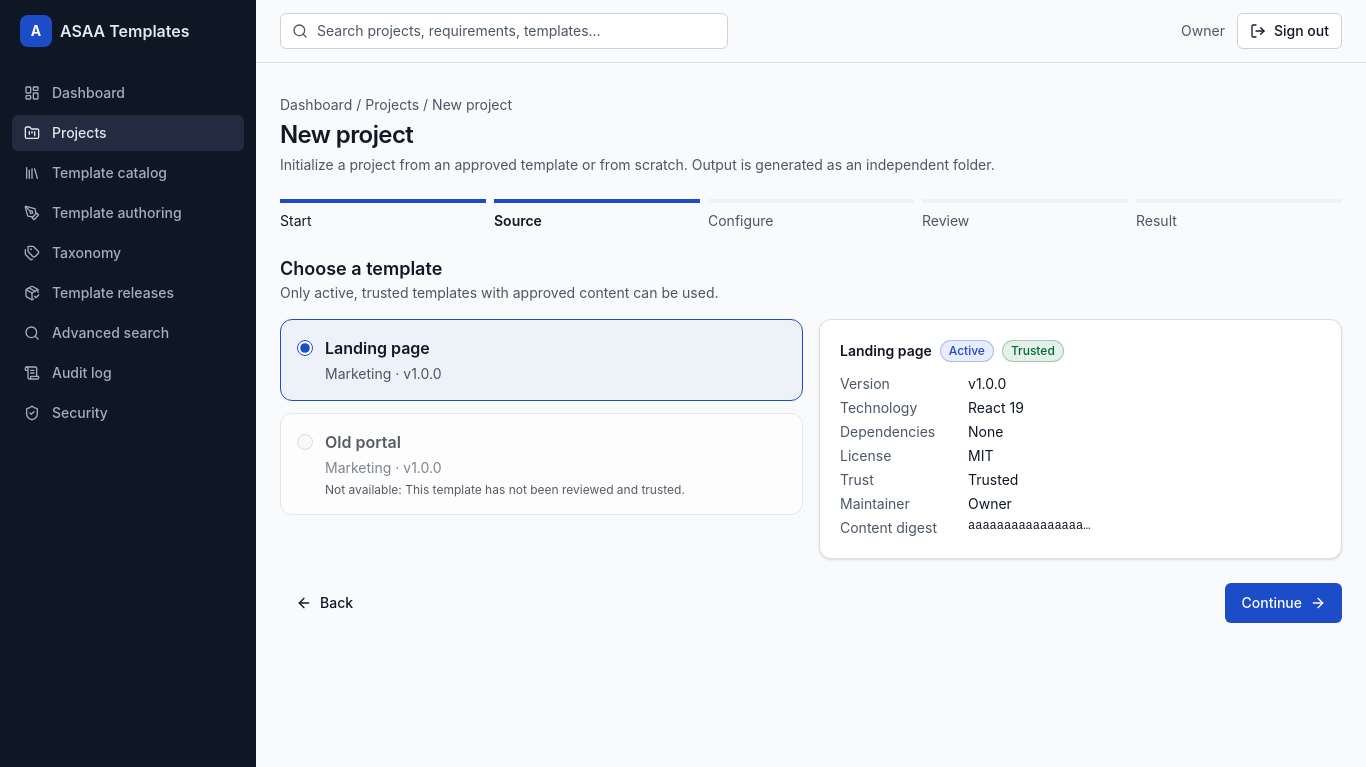
new project wizard › returns to configuration with server field errors and blocks generation on conflicts
Click the button "Continue": (1284, 603) [1226,583,1342,623]
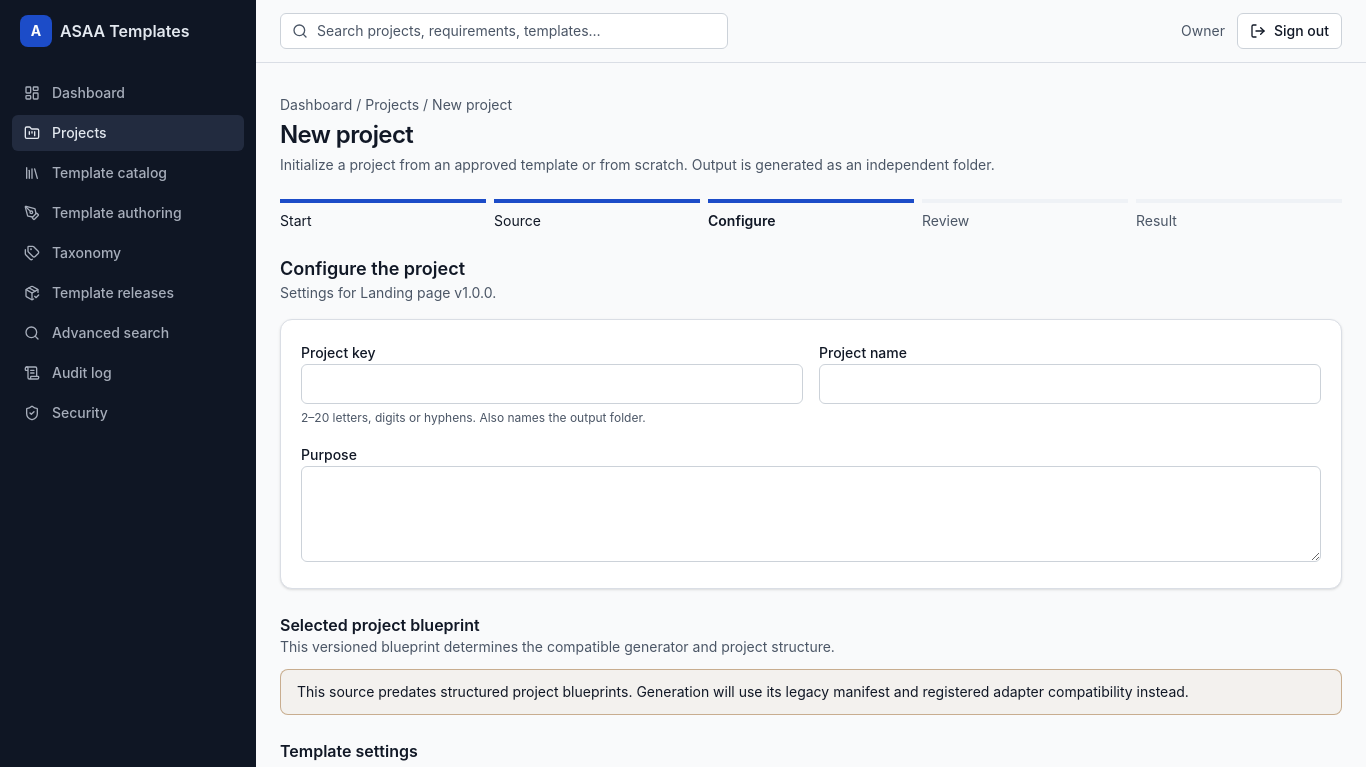
In the field labelled "Project key": (552, 384) [301,364,803,404], type "SITE"
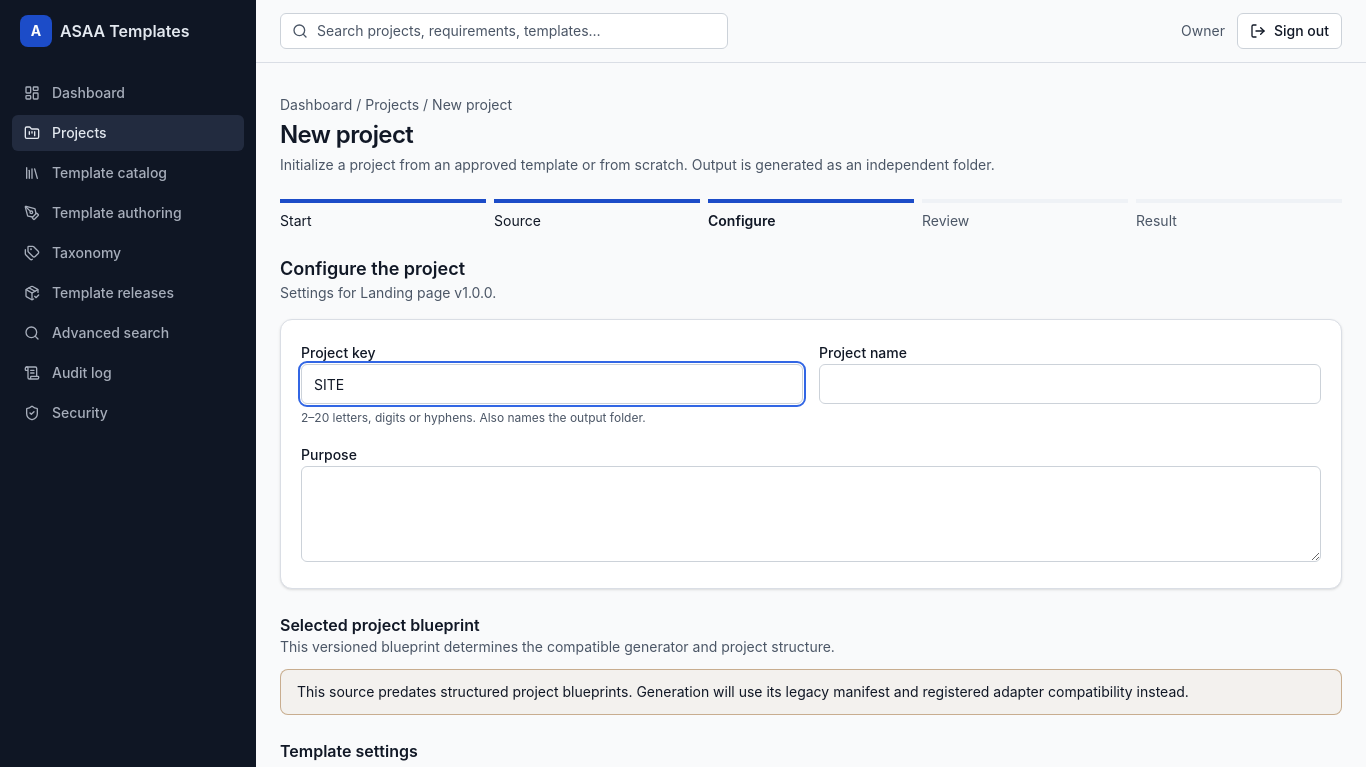
In the field labelled "Project name": (1070, 384) [819,364,1321,404], type "Site"
(page scrolled)
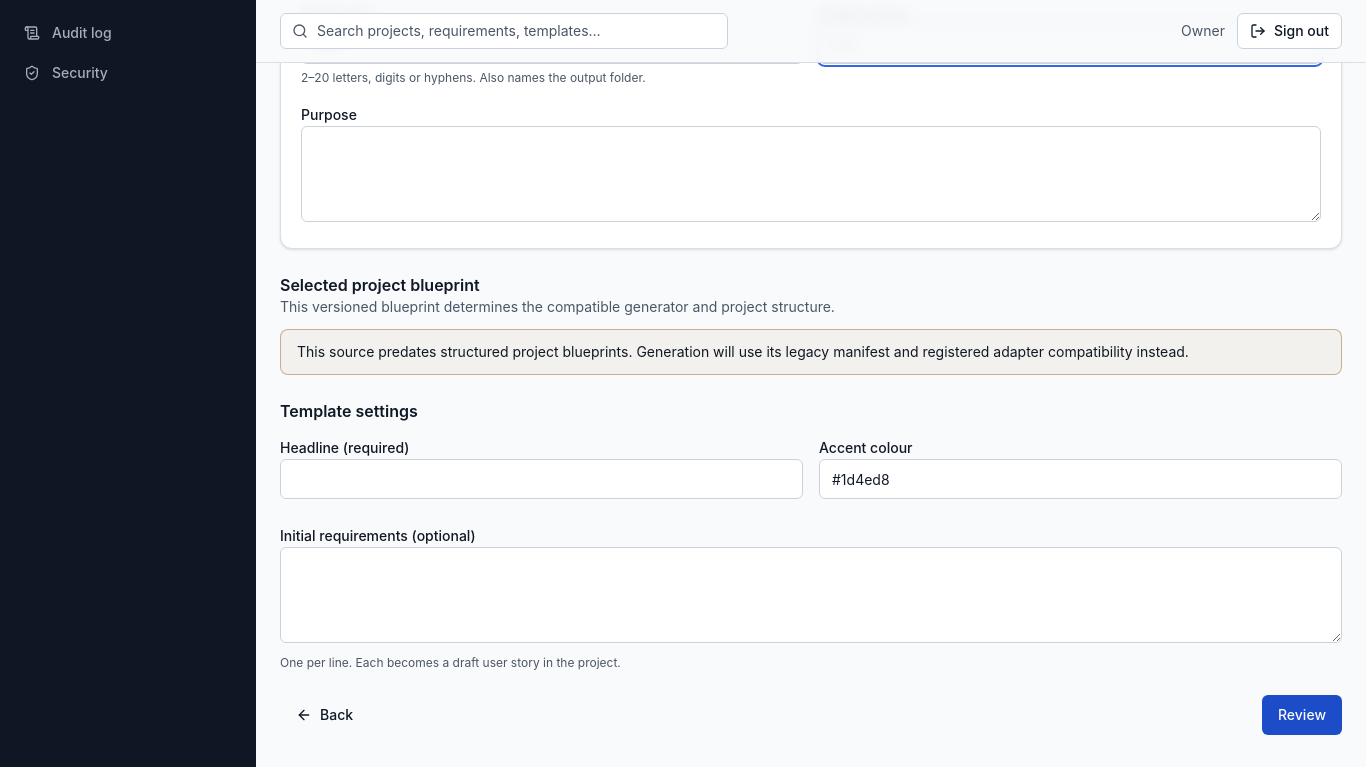
In the field labelled "Headline (required)": (542, 479) [280,459,803,499], type "Hello"
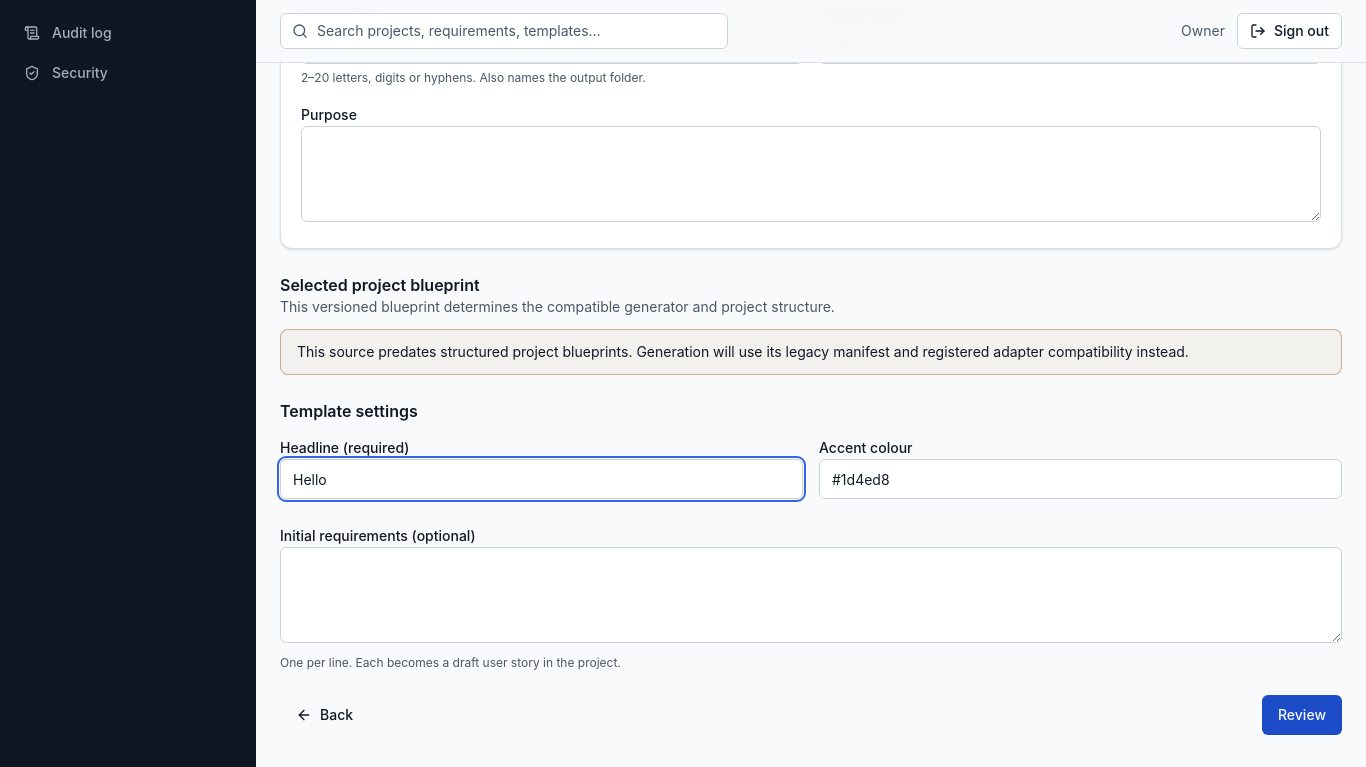
Click the button "Review": (1302, 715) [1262,695,1342,735]
(page scrolled)
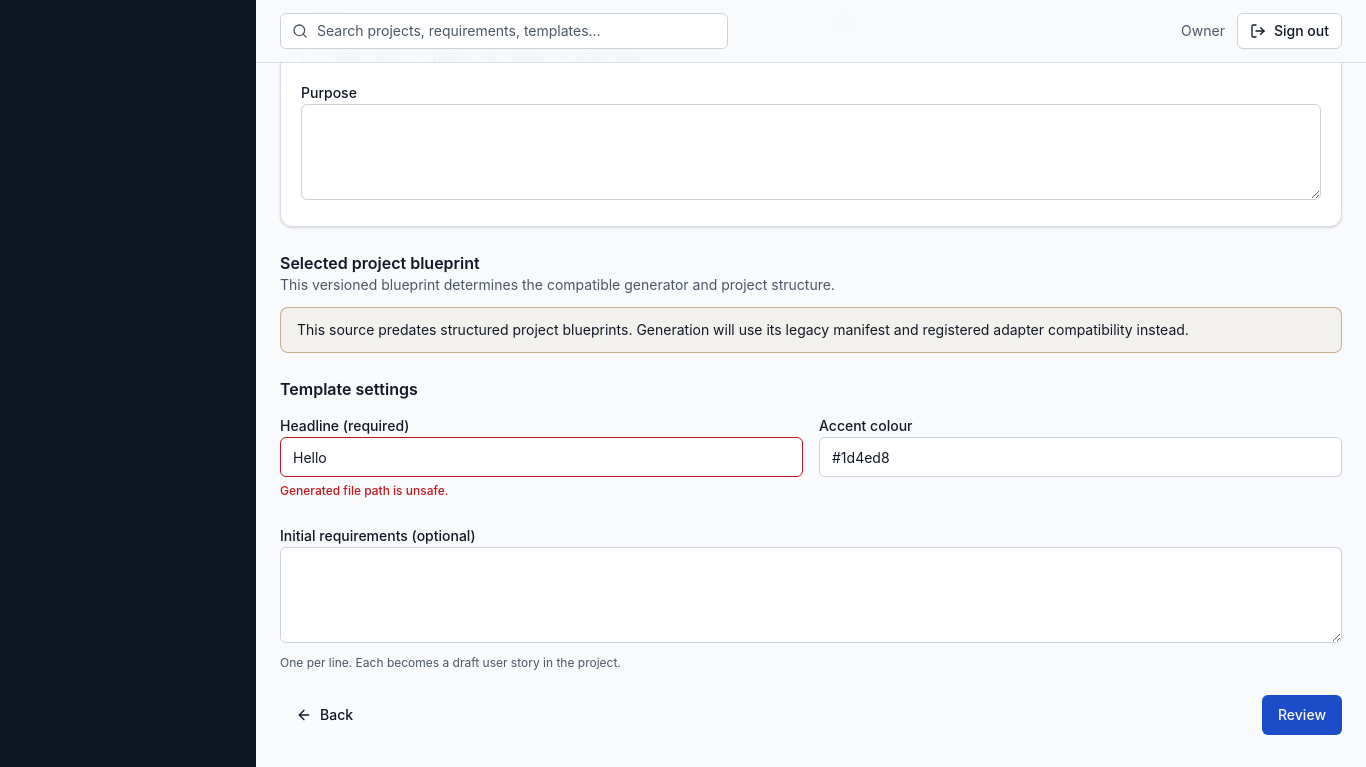
Click the button "Review": (1302, 715) [1262,695,1342,735]
(page scrolled)
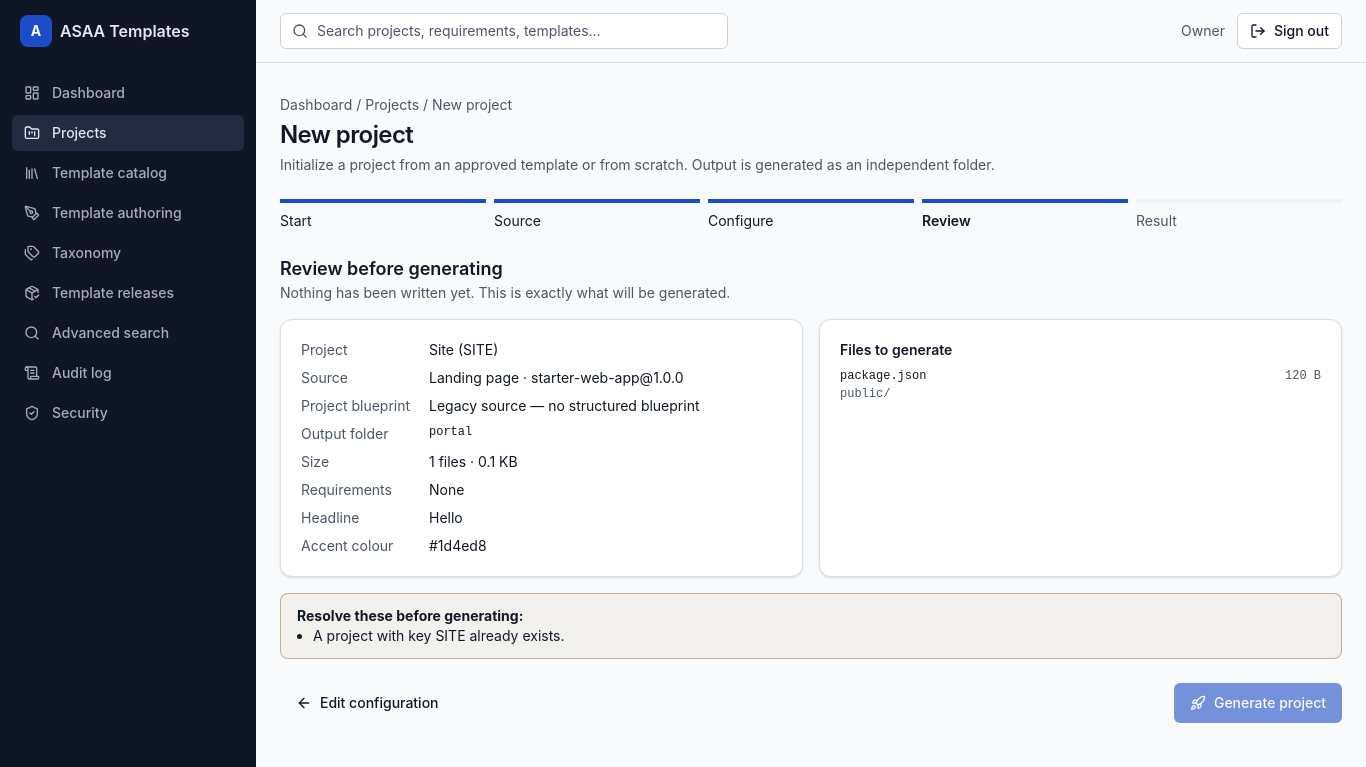
Expected: the list item "A project with key SITE already exists." is shown, [313,627,564,644]
Expected: the button "Generate project" is disabled, [1174,683,1342,723]
